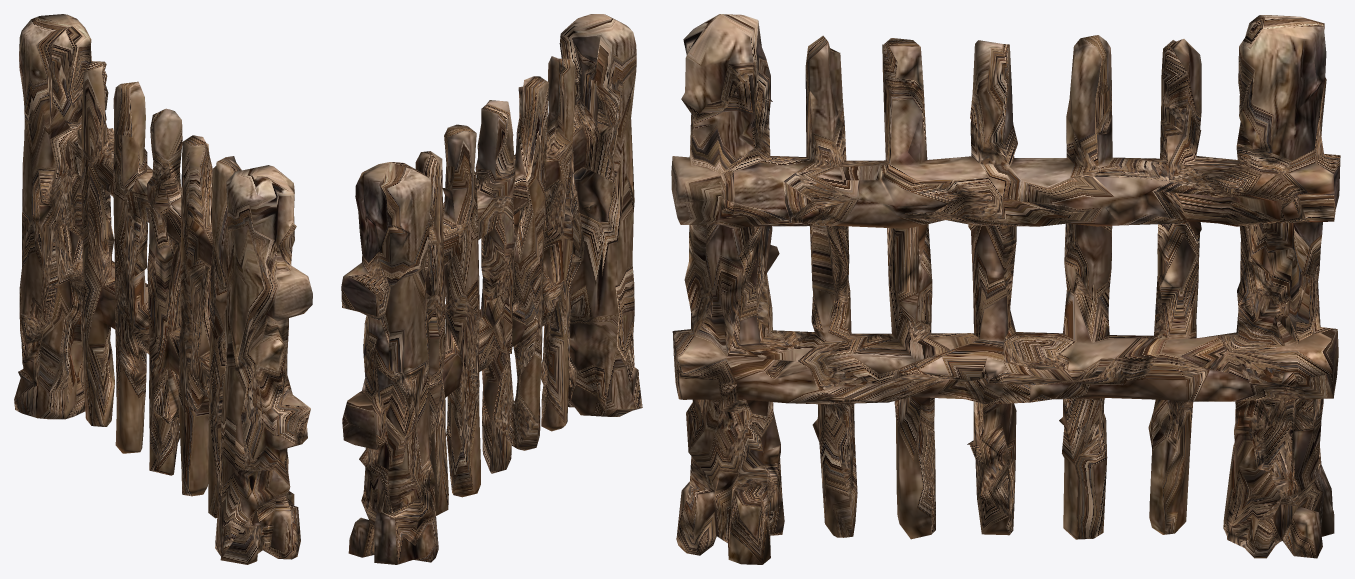
The model's file is fence-mid.glb.
3 views of the same model, side by side, from view 1: azimuth 30°, elevation 25°; view 2: azimuth 150°, elevation 25°; view 3: azimuth 270°, elevation 25° (orthographic). The views are drawn at different scales.
Bounding box in the file's own units: 0.1969 × 0.8522 × 0.9976.
Materials: 1 (1 with a texture image).
